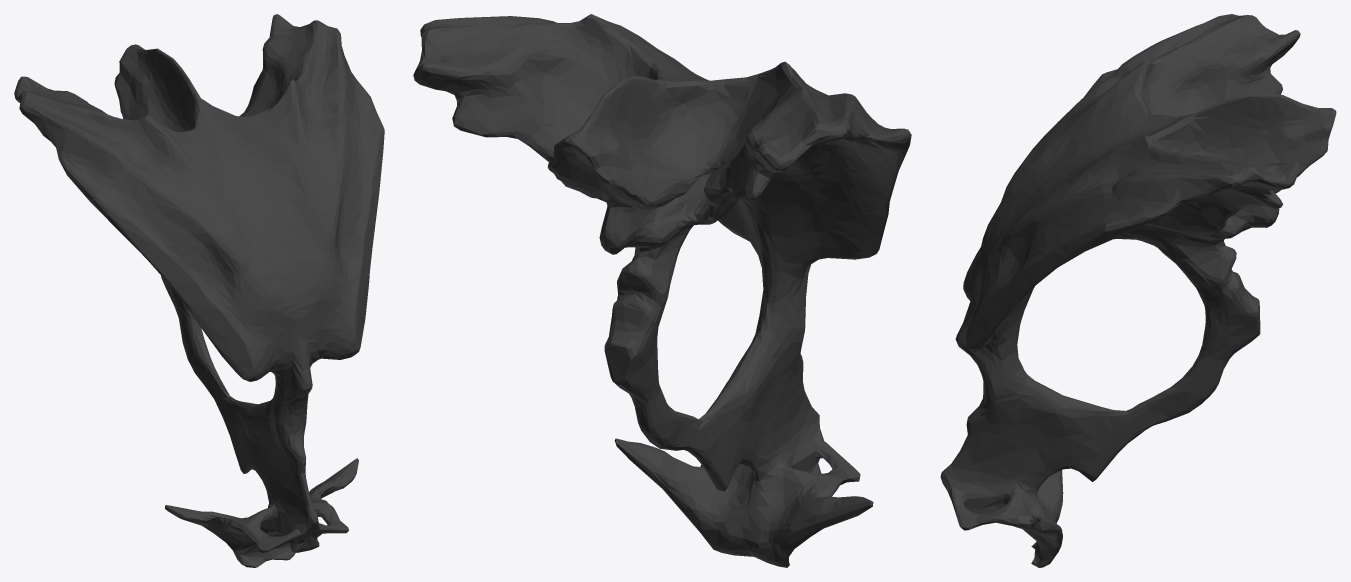
The model's file is Ventricle_3.glb.
The picture shows the model from 3 angles, left to right: view 1: azimuth 30°, elevation 25°; view 2: azimuth 150°, elevation 25°; view 3: azimuth 270°, elevation 25°; orthographic projection. The views are drawn at different scales.
Parts seen in each view (by area): view 1: Ventricle_3; view 2: Ventricle_3; view 3: Ventricle_3.
Boxes of the visible parts, x1,y1,x2,y2 form: Ventricle_3: [14, 14, 384, 567]; Ventricle_3: [413, 14, 911, 567]; Ventricle_3: [940, 14, 1336, 567].
Size of the model in its own units: 0.0348 by 0.0453 by 0.035.
1 material, 1 textured.
